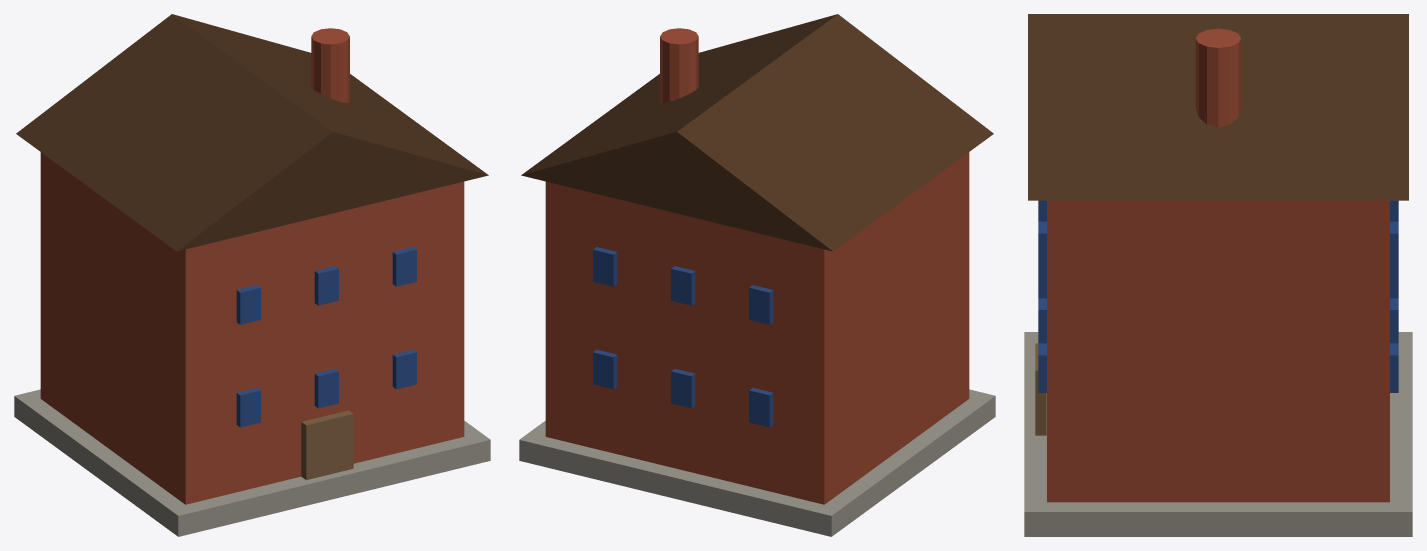
File: bld_residential_a04.glb
3 renders of one model, left to right at view 1: azimuth 30°, elevation 25°; view 2: azimuth 150°, elevation 25°; view 3: azimuth 270°, elevation 25°, orthographic. The views are drawn at different scales.
Visible parts, largest first — view 1: body; view 2: body; view 3: body.
Boxes of the visible parts, x1,y1,x2,y2 form: body: (14,14,490,536); body: (519,14,995,536); body: (1024,14,1412,536).
Size of what is drawn, in the model's own units: 5.6 by 6.57 by 5.1.
